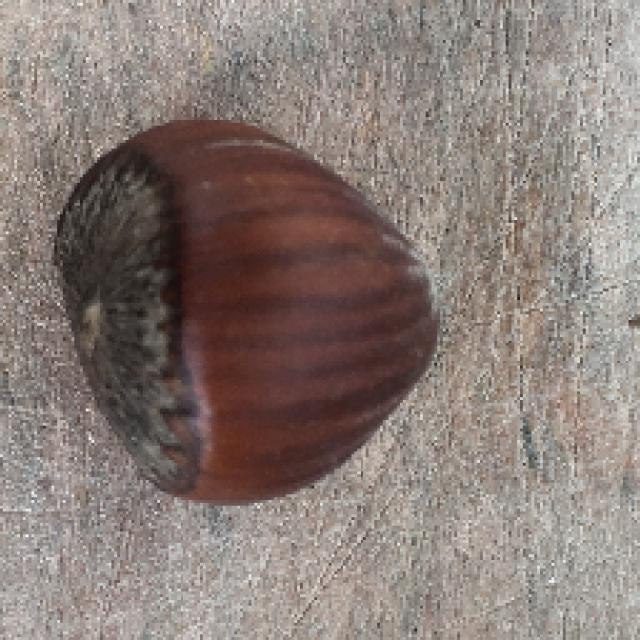damagedHazelnut: (40, 110, 449, 520)
